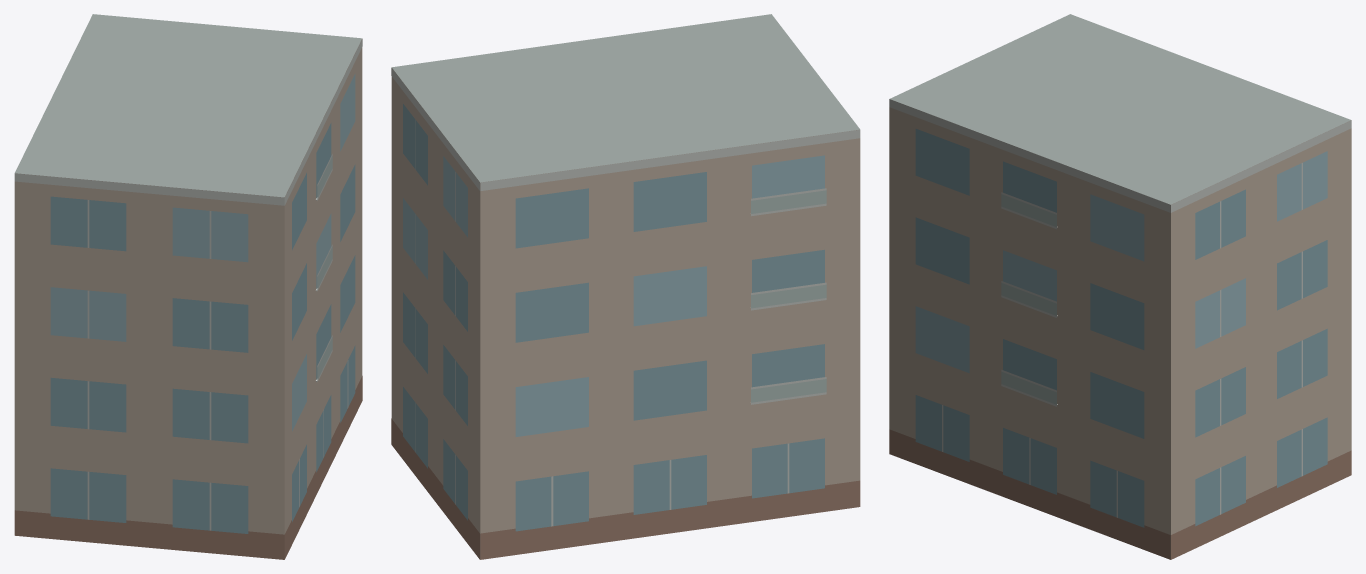
The model's file is survey-upis-32643976.glb.
3 renders of one model, left to right at view 1: azimuth 30°, elevation 25°; view 2: azimuth 150°, elevation 25°; view 3: azimuth 270°, elevation 25°, orthographic. The views are drawn at different scales.
Visible parts, largest first — view 1: survey-upis-32643976.tmp; view 2: survey-upis-32643976.tmp; view 3: survey-upis-32643976.tmp.
Part boxes in pixels (x1=…): survey-upis-32643976.tmp: x1=14, y1=14, x2=362, y2=559; survey-upis-32643976.tmp: x1=391, y1=14, x2=860, y2=559; survey-upis-32643976.tmp: x1=889, y1=14, x2=1351, y2=559.
Bounding box in the file's own units: 12.22 × 10.6 × 12.51.
